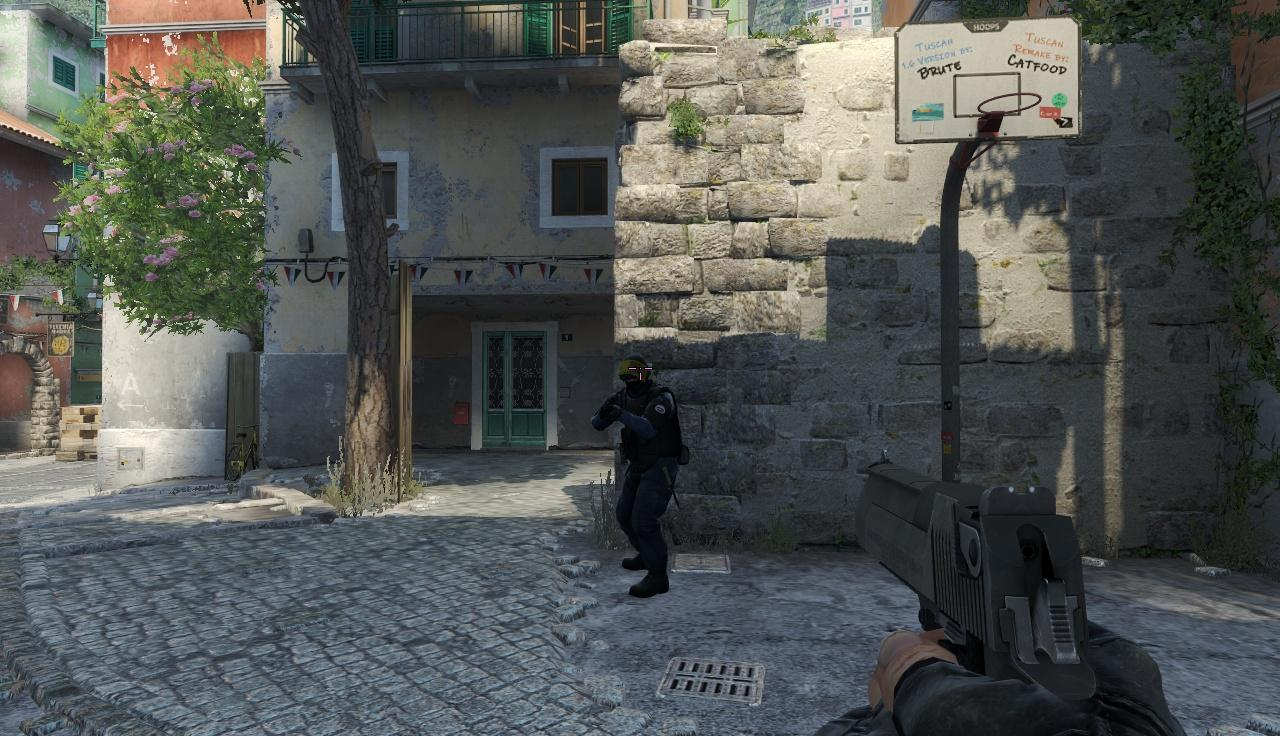ct: (611, 355, 679, 598)
cthead: (617, 355, 650, 391)
pistol: (846, 450, 1181, 736)
